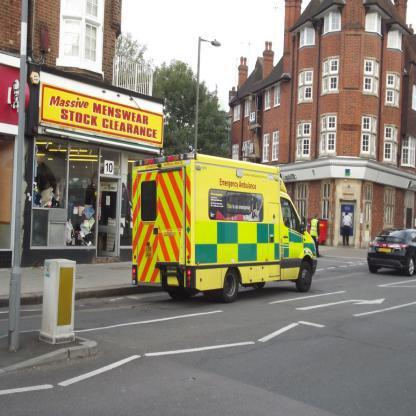Ambulance - v1 Ambulance last generate: (131, 150, 319, 301)
